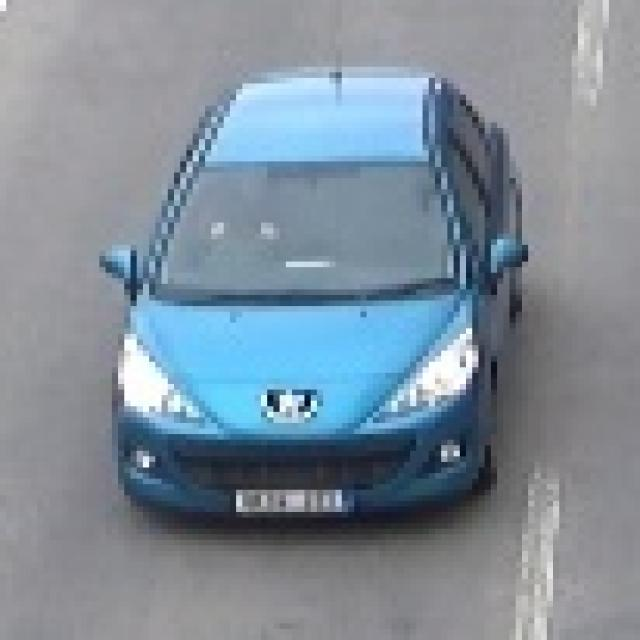blue: (108, 66, 511, 542)
